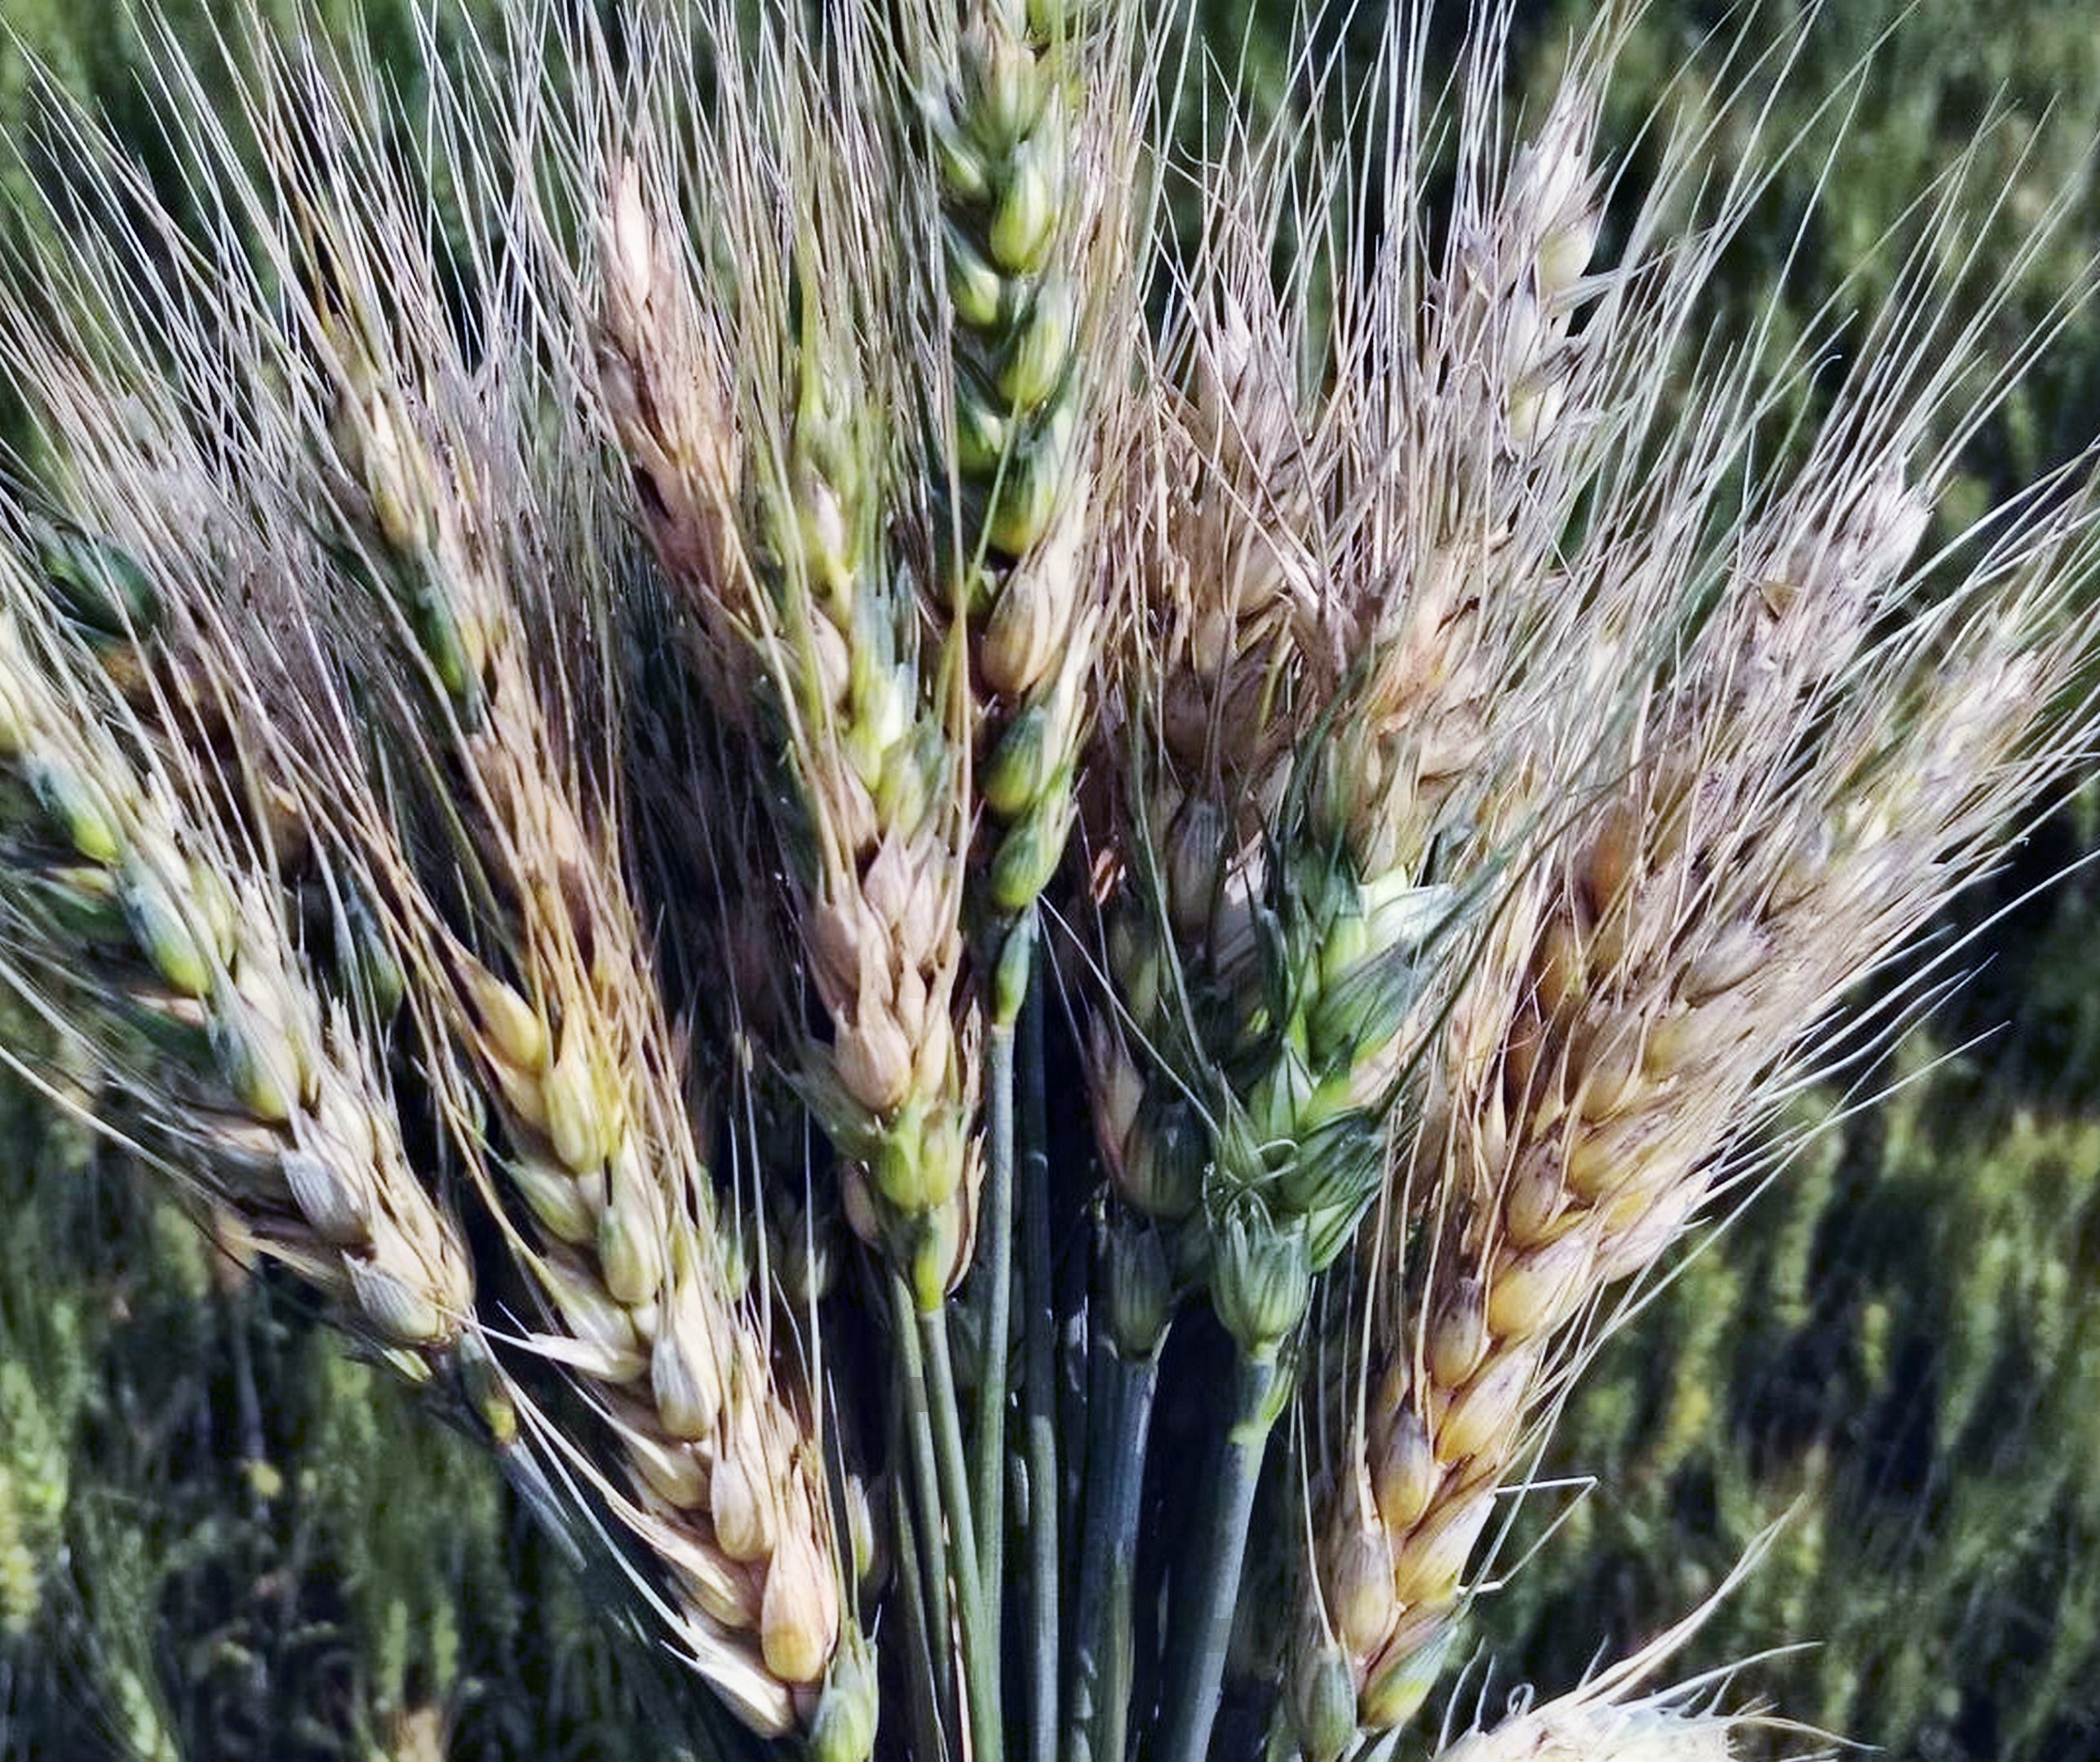Wheat scab: (12, 722, 451, 1360), (479, 991, 862, 1706), (907, 19, 1091, 968)
